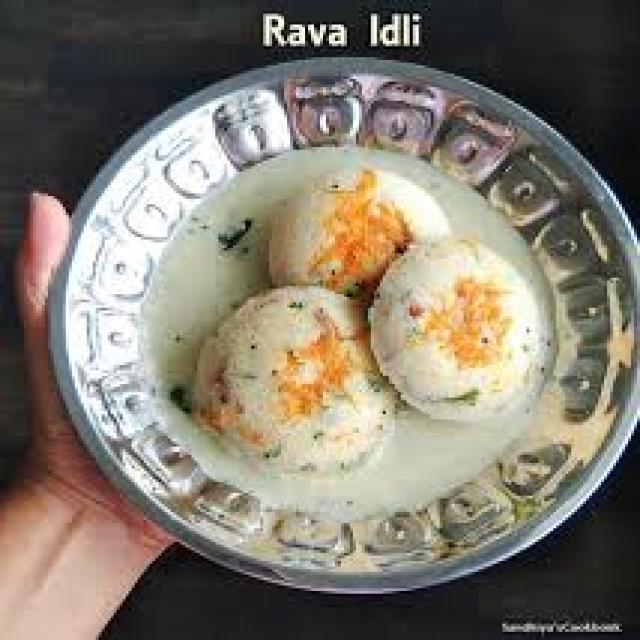chutney: (90, 109, 598, 512)
idli: (239, 152, 455, 338), (197, 280, 389, 480), (362, 237, 553, 408)
